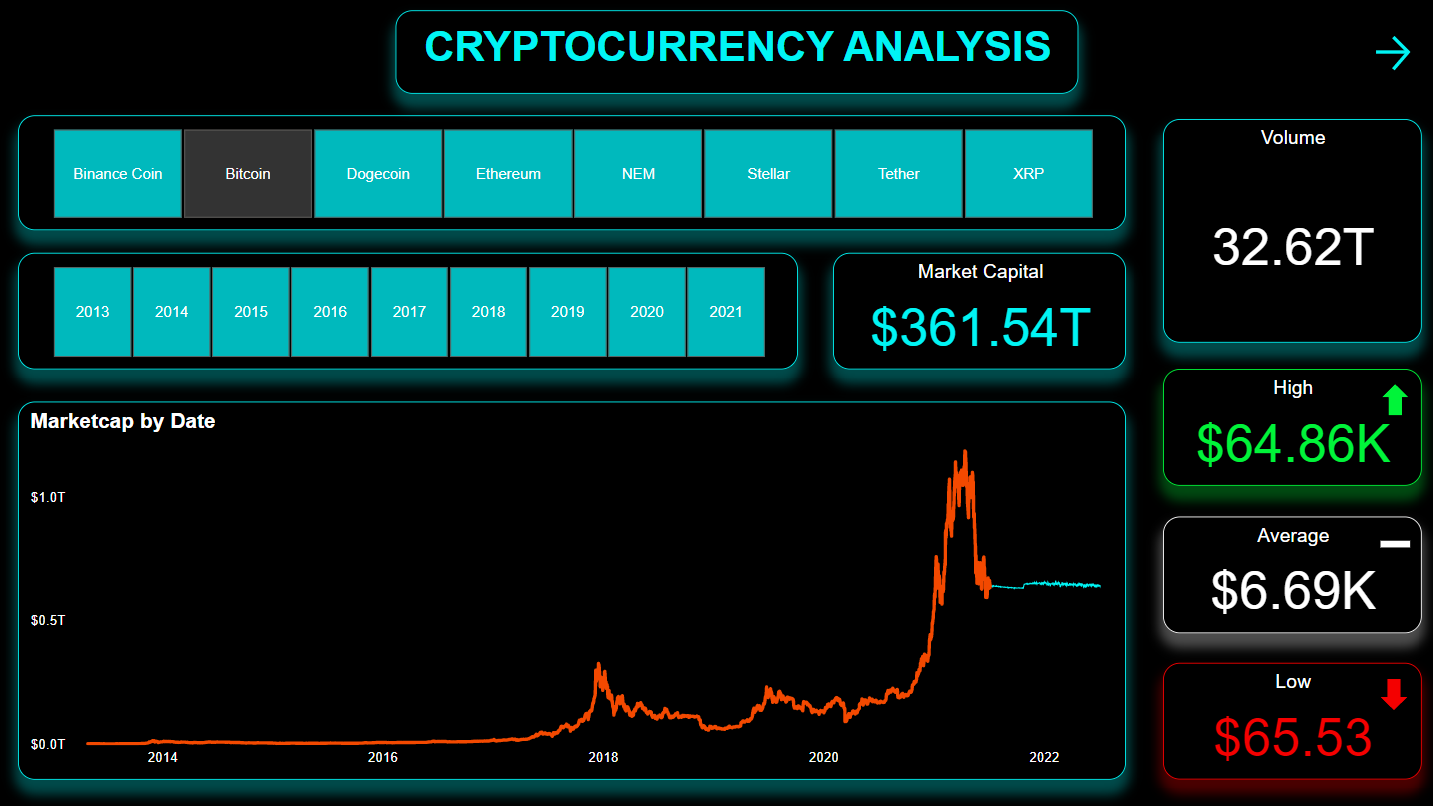

The dashboard page shown, as its layout file describes it:
{"tool":"powerbi","page":{"name":"Page 1","canvas":[1280,720],"ordinal":0},"visuals":[{"type":"slicer","fields":{"Values":["CryptoData.Name"]},"box":[18.2,103.9,986.7,102.5],"z":0},{"type":"slicer","fields":{"Values":["CryptoData.Year"]},"box":[17.7,225.8,694.7,103.9],"z":1},{"type":"card","title":"Market Capital","fields":{"Values":["Sum(CryptoData.Marketcap)"]},"box":[743.9,226,261.1,103.9],"z":2},{"type":"card","title":"Volume","fields":{"Values":["Sum(CryptoData.Volume)"]},"box":[1036.6,106.5,230.2,199.3],"z":3},{"type":"card","title":"High","fields":{"Values":["Max(CryptoData.High)"]},"box":[1036.6,329.7,230.2,103.9],"z":4},{"type":"card","title":"Average","fields":{"Values":["Avg(CryptoData.Average)"]},"box":[1036.6,460.2,230.2,103.9],"z":5},{"type":"card","title":"Low","fields":{"Values":["Min(CryptoData.Low)"]},"box":[1036.6,590.7,230.2,103.9],"z":6},{"type":"shape","box":[1231.9,342.5,23.9,28.1],"z":7},{"type":"shape","box":[1230.5,605,23.9,28.1],"z":8},{"type":"shape","box":[1230.5,474.5,26.7,22.5],"z":9},{"type":"lineChart","fields":{"Y":["Sum(CryptoData.Marketcap)"],"Category":["CryptoData.Date"]},"box":[18.2,357.9,986.7,336.8],"z":10},{"type":"textbox","box":[353.7,9.8,607.7,74.4],"z":11},{"type":"actionButton","box":[1220.8,10,46.7,41.2],"z":12}]}

Visuals, with their boxes in screenshot pixels (x1, y1, x2, y2), scaled from the page's 1280x720 canvas onto the 1433x806 screenshot:
slicer - CryptoData.Name: (20,116,1125,231)
slicer - CryptoData.Year: (20,253,798,369)
"Market Capital" card: (833,253,1125,369)
"Volume" card: (1161,119,1418,342)
"High" card: (1161,369,1418,485)
"Average" card: (1161,515,1418,631)
"Low" card: (1161,661,1418,778)
shape: (1379,383,1406,415)
shape: (1378,677,1404,709)
shape: (1378,531,1407,556)
lineChart - Sum(CryptoData.Marketcap) x CryptoData.Date: (20,401,1125,778)
textbox: (396,11,1076,94)
actionButton: (1367,11,1419,57)
